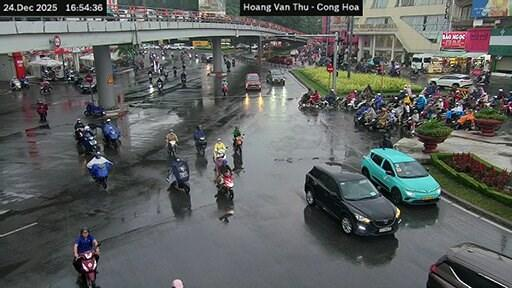motorbike: (166, 161, 188, 192), (80, 247, 96, 287), (89, 163, 111, 188), (217, 171, 233, 198), (103, 125, 120, 148), (80, 135, 99, 153), (365, 117, 390, 130), (83, 103, 103, 116), (345, 98, 365, 109), (195, 136, 205, 156), (66, 70, 79, 84), (473, 73, 489, 84), (37, 104, 47, 121), (233, 135, 242, 153), (166, 140, 175, 157), (39, 82, 51, 94), (354, 112, 364, 125), (10, 79, 20, 90), (19, 76, 28, 88), (42, 71, 54, 80), (156, 81, 162, 91), (221, 85, 227, 94), (172, 67, 176, 76), (181, 76, 185, 85), (163, 70, 166, 79), (231, 58, 234, 66)
